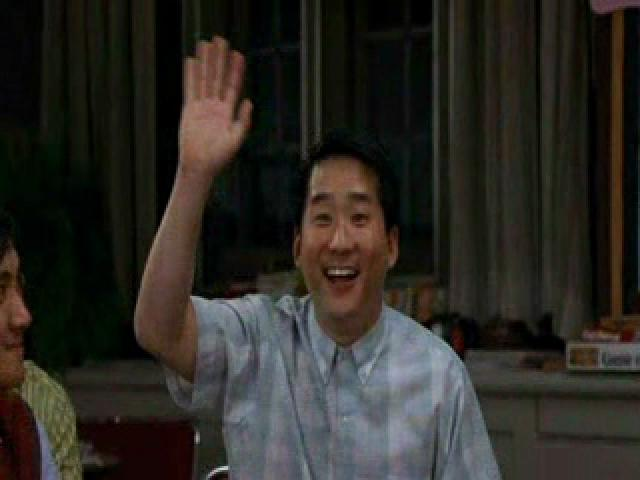T: (111, 15, 529, 480)
